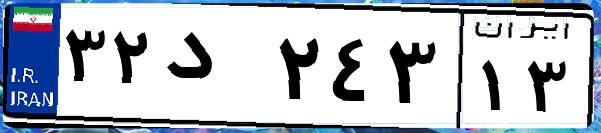1: (475, 38, 525, 113)
2: (270, 28, 330, 110), (110, 28, 158, 98)
3: (385, 28, 445, 110), (57, 26, 110, 100), (525, 38, 570, 115)
4: (330, 28, 385, 110)
د: (158, 20, 270, 120)
